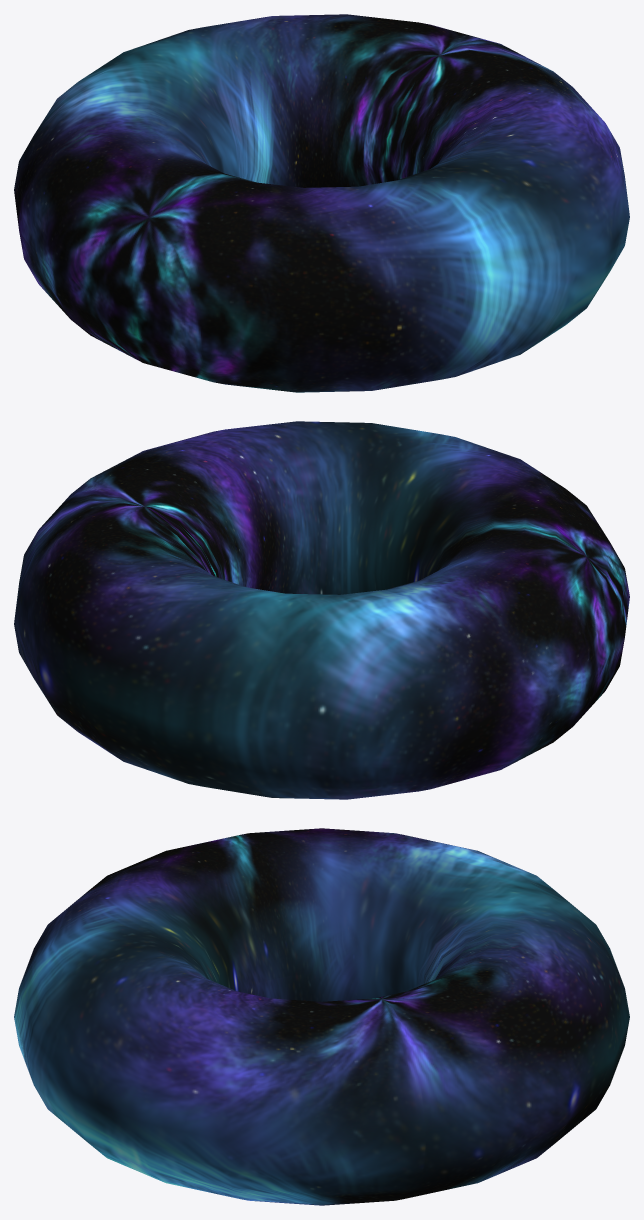
Rendered from BlackHole01.glb.
3 renders of one model, top to bottom at view 1: azimuth 30°, elevation 25°; view 2: azimuth 150°, elevation 25°; view 3: azimuth 270°, elevation 25°, orthographic.
Visible parts, largest first — view 1: BlackHole01; view 2: BlackHole01; view 3: BlackHole01.
Part boxes in pixels (<box>): BlackHole01: <box>14,14,629,392</box>; BlackHole01: <box>14,421,629,799</box>; BlackHole01: <box>14,828,629,1205</box>.
Bounding box in the file's own units: 16.62 × 5.54 × 16.62.
Materials: 1 (1 with a texture image).
